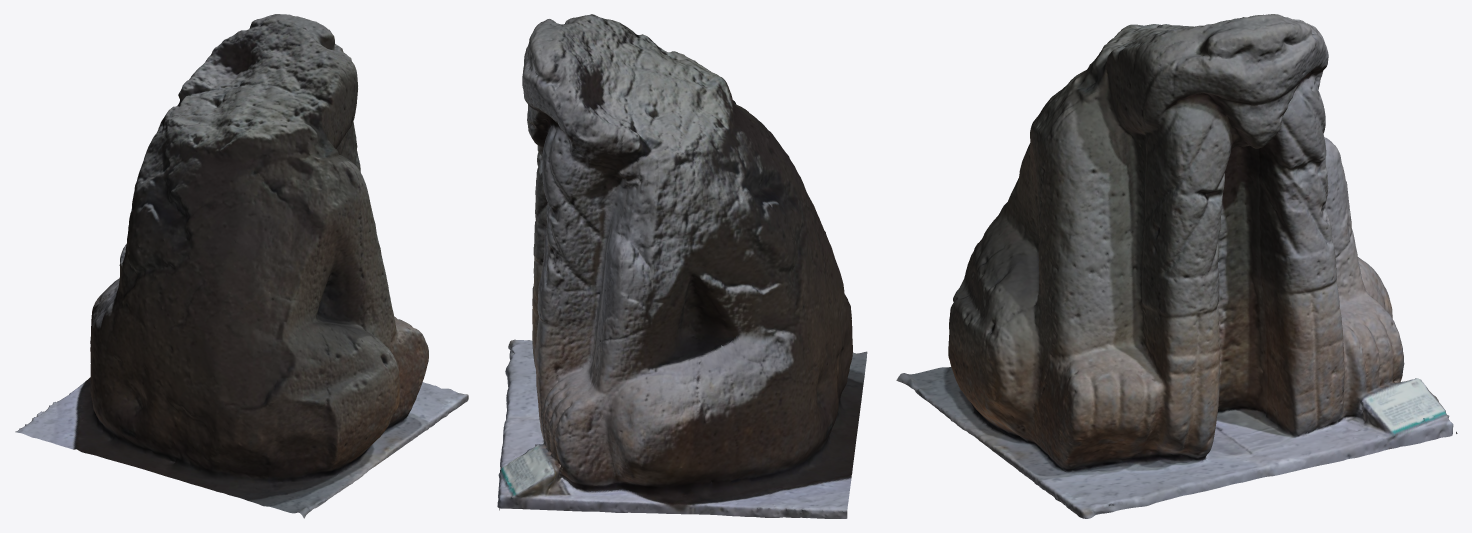
File: felino.glb
3 renders of one model, left to right at view 1: azimuth 30°, elevation 25°; view 2: azimuth 150°, elevation 25°; view 3: azimuth 270°, elevation 25°, orthographic. The views are drawn at different scales.
Visible parts, largest first — view 1: Mesh_0; view 2: Mesh_0; view 3: Mesh_0.
Boxes of the visible parts, <box> form: Mesh_0: <box>15,14,468,518</box>; Mesh_0: <box>497,14,867,518</box>; Mesh_0: <box>896,14,1457,518</box>.
Size of the model in its own units: 0.4764 by 0.4346 by 0.5.
1 material, 1 textured.
